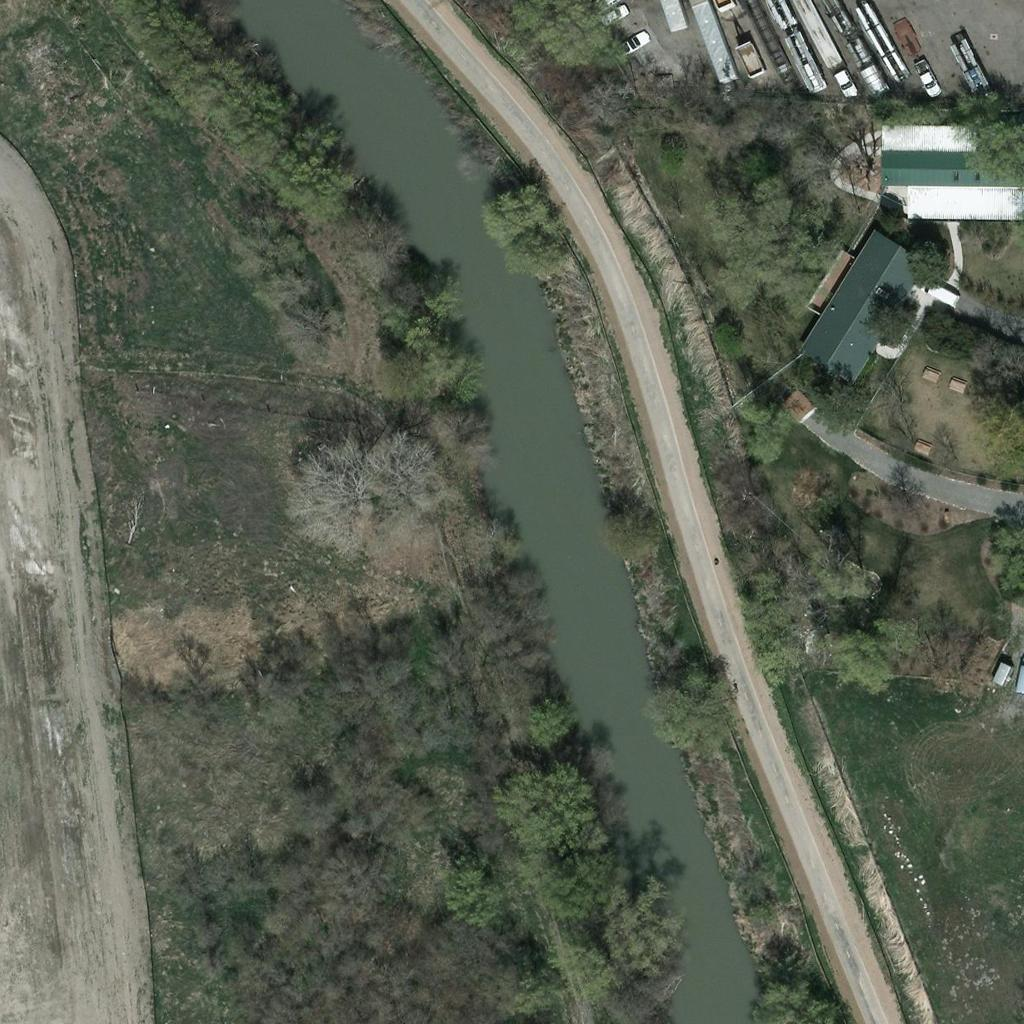car: (613, 26, 647, 60), (909, 60, 943, 94), (919, 273, 953, 307), (595, 0, 629, 32), (595, 0, 629, 31)
